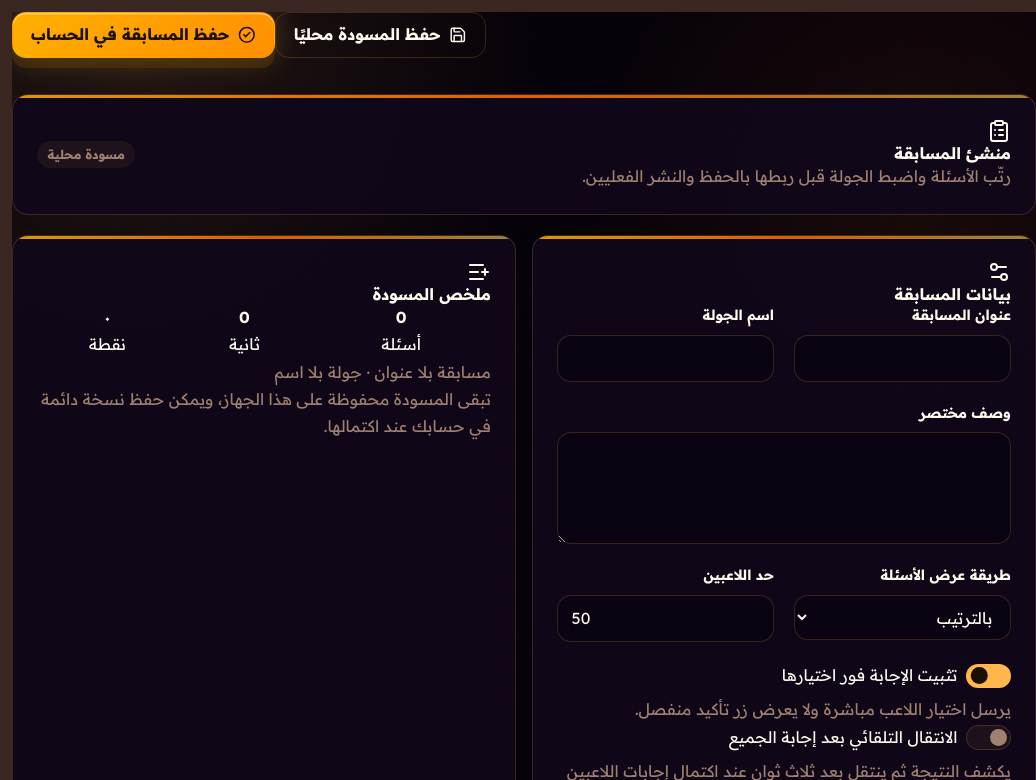
Test: QuizBuilder › يحفظ المسودة الحالية على الجهاز
The width and height of the screenshot is (1036, 780).
Type "مسابقة محفوظة" into the field labelled "عنوان المسابقة" at (902, 358), box [809,336,996,381]
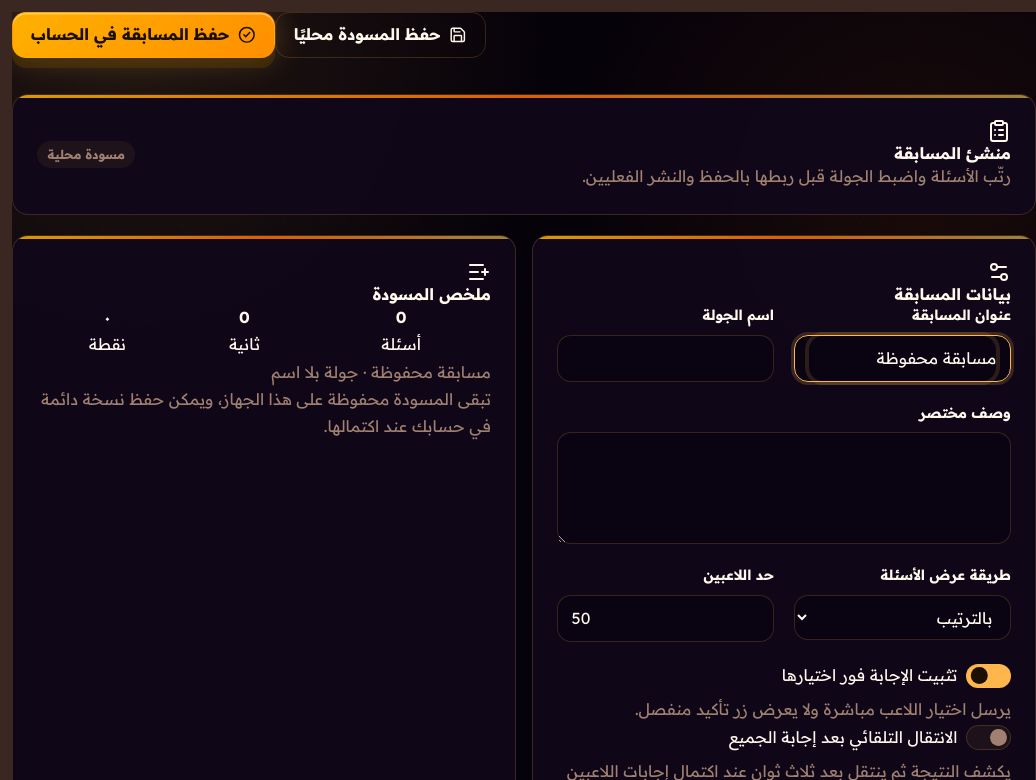
Click the button "حفظ المسودة محليًا" at (380, 35), box [275,12,486,58]
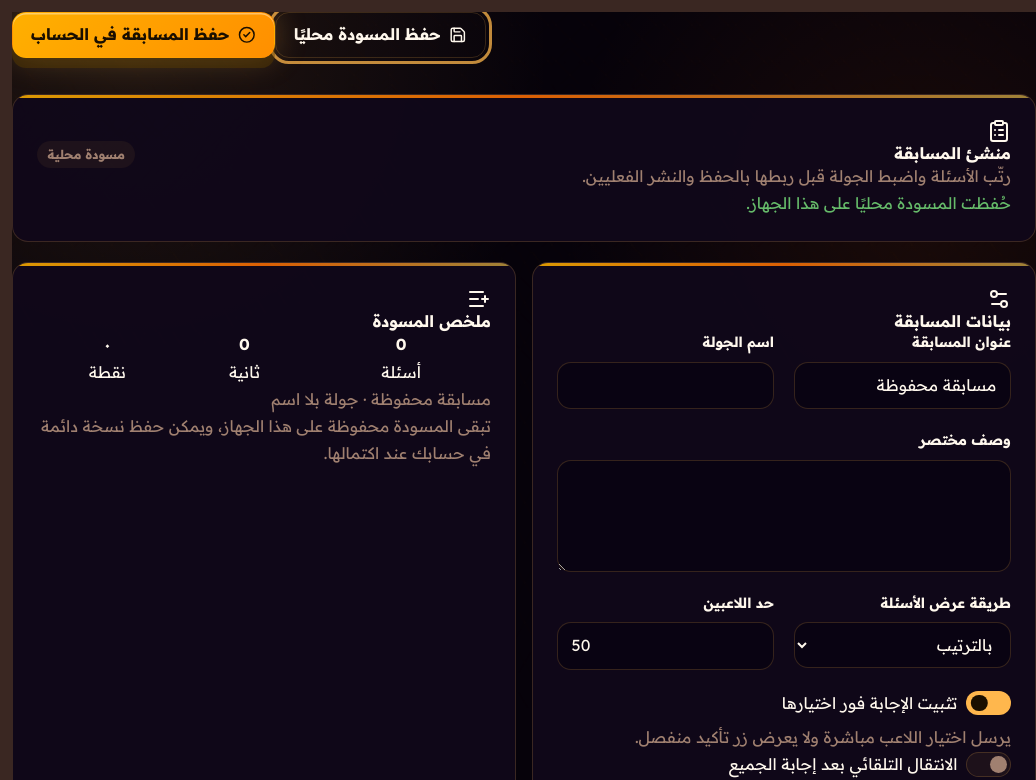
Now the message reads "حُفظت المسودة محليًا على هذا الجهاز.", box [746,193,1011,213]
